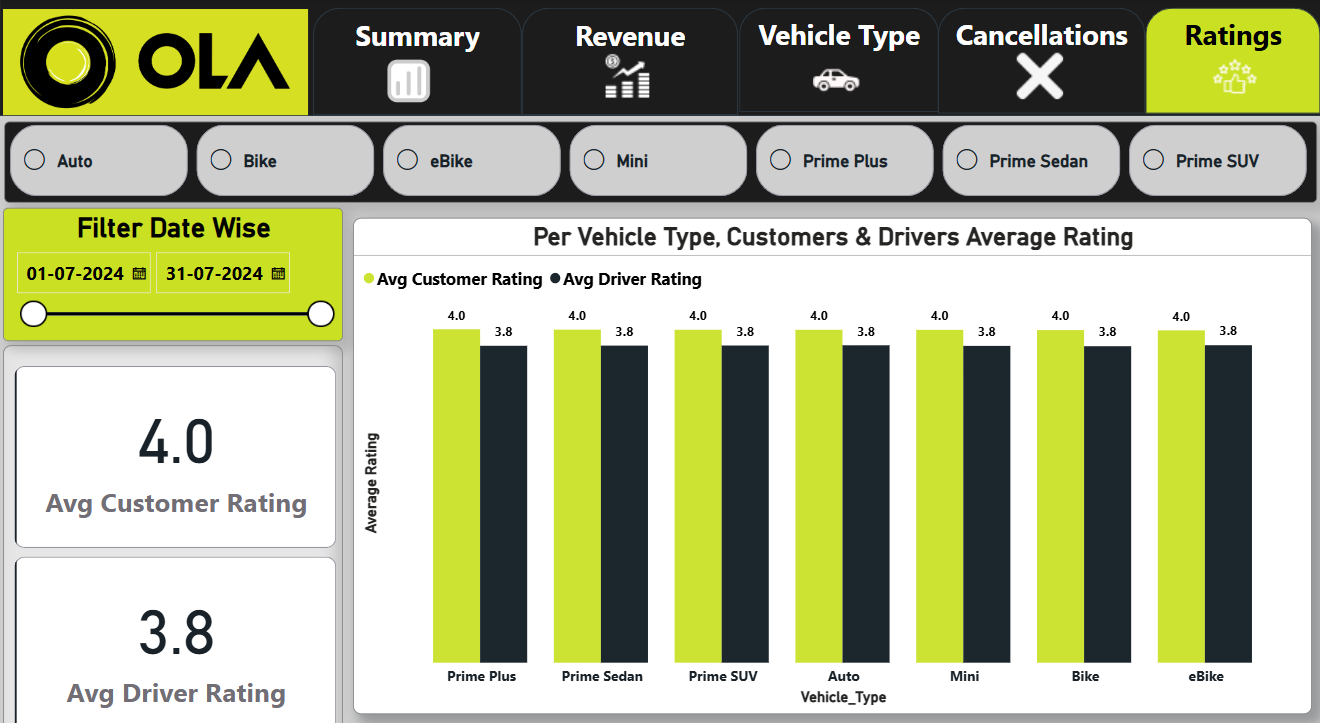

What the dashboard file says about the page in this screenshot:
{"tool":"powerbi","page":{"name":"Ratings","canvas":[1280,720],"ordinal":4},"visuals":[{"type":"shape","box":[1.3,0,1276.2,112.9],"z":0},{"type":"group","id":"g1","title":"Group 3","box":[5.1,9.1,294.3,102.8],"z":1000},{"type":"group","id":"g2","title":"Group 1","box":[304.1,8.9,201.7,103.8],"z":2000},{"type":"shape","box":[304.1,8.9,201.7,103.8],"z":2000,"group":"g2"},{"type":"shape","box":[5.1,9.1,294.3,102.8],"z":2000,"group":"g1"},{"type":"group","id":"g3","title":"Group 2","box":[505.8,8.9,209.1,103.8],"z":3000},{"type":"shape","box":[505.8,8.9,209.1,103.8],"z":3000,"group":"g3"},{"type":"image","box":[5.1,9.1,294.3,102.8],"z":3000,"group":"g1"},{"type":"group","id":"g4","title":"Group 4","box":[714.9,8.9,192.8,101],"z":4000},{"type":"shape","box":[714.9,8.9,192.8,100.9],"z":4000,"group":"g4"},{"type":"group","id":"g5","title":"Group 5","box":[907.7,8.9,200.2,102.3],"z":5000},{"type":"shape","box":[907.7,8.9,200.2,102.3],"z":5000,"group":"g5"},{"type":"group","id":"g6","title":"Group 6","box":[1107.9,8.9,169.1,102.3],"z":6000},{"type":"shape","box":[1107.9,8.9,169.1,102.3],"z":6000,"group":"g6"},{"type":"actionButton","box":[298.1,7.4,209.1,106.8],"z":7000},{"type":"image","box":[580.3,47.6,54.9,54.9],"z":7001,"group":"g3"},{"type":"image","box":[781.8,55,54.9,54.9],"z":7002,"group":"g4"},{"type":"image","box":[979.3,47.6,54.9,54.9],"z":7003,"group":"g5"},{"type":"image","box":[1167.3,47.6,54.9,54.9],"z":7004,"group":"g6"},{"type":"actionButton","box":[507.3,4.4,209.1,106.8],"z":8000},{"type":"image","box":[369.3,52.1,54.9,54.9],"z":8500,"group":"g2"},{"type":"actionButton","box":[714.9,5.9,192.8,106.8],"z":9000},{"type":"actionButton","box":[907.7,5.9,200.2,106.8],"z":10000},{"type":"actionButton","box":[1107.9,7.4,172.1,103.8],"z":11000},{"type":"advancedSlicerVisual","title":"Vehicle Type","fields":{"Values":["OLA Dataset.Vehicle_Type"]},"box":[5.8,118.6,1267.3,78.1],"z":11001},{"type":"cardVisual","fields":{"Data":["OLA Dataset.Avg Customer Rating","OLA Dataset.Avg Driver Rating"]},"box":[4.3,334.2,328.4,386.3],"z":11002},{"type":"slicer","title":"Filter Date Wise","fields":{"Values":["OLA Dataset.Date"]},"box":[4.3,201.1,328.4,128.8],"z":11003},{"type":"clusteredColumnChart","title":"Per Vehicle Type, Customers & Drivers Average Rating","fields":{"Category":["OLA Dataset.Vehicle_Type"],"Y":["OLA Dataset.Avg Customer Rating","OLA Dataset.Avg Driver Rating"]},"box":[342.9,211.2,925.9,478.8],"z":11004}]}

Visuals, with their boxes in screenshot pixels (x1, y1, x2, y2), scaled from the page's 1280x720 canvas onto the 1320x723 screenshot:
shape: 1 0 1317 113
"Group 3" group: 5 9 309 112
"Group 1" group: 314 9 522 113
shape: 314 9 522 113
shape: 5 9 309 112
"Group 2" group: 522 9 737 113
shape: 522 9 737 113
image: 5 9 309 112
"Group 4" group: 737 9 936 110
shape: 737 9 936 110
"Group 5" group: 936 9 1143 112
shape: 936 9 1143 112
"Group 6" group: 1143 9 1317 112
shape: 1143 9 1317 112
actionButton: 307 7 523 115
image: 598 48 655 103
image: 806 55 863 110
image: 1010 48 1067 103
image: 1204 48 1260 103
actionButton: 523 4 739 112
image: 381 52 437 107
actionButton: 737 6 936 113
actionButton: 936 6 1143 113
actionButton: 1143 7 1319 112
"Vehicle Type" advancedSlicerVisual: 6 119 1313 198
cardVisual - OLA Dataset.Avg Customer Rating x OLA Dataset.Avg Driver Rating: 4 336 343 722
"Filter Date Wise" slicer: 4 202 343 331
"Per Vehicle Type, Customers & Drivers Average Rating" clusteredColumnChart: 354 212 1308 693
